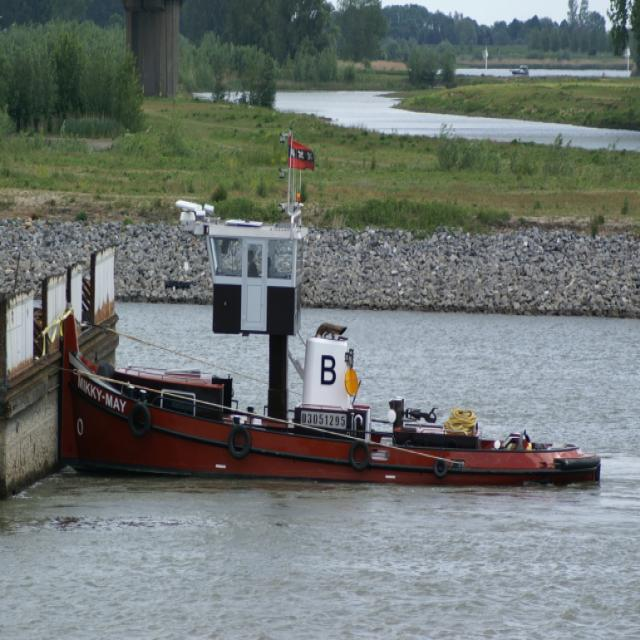tugboat: (54, 193, 606, 502)
